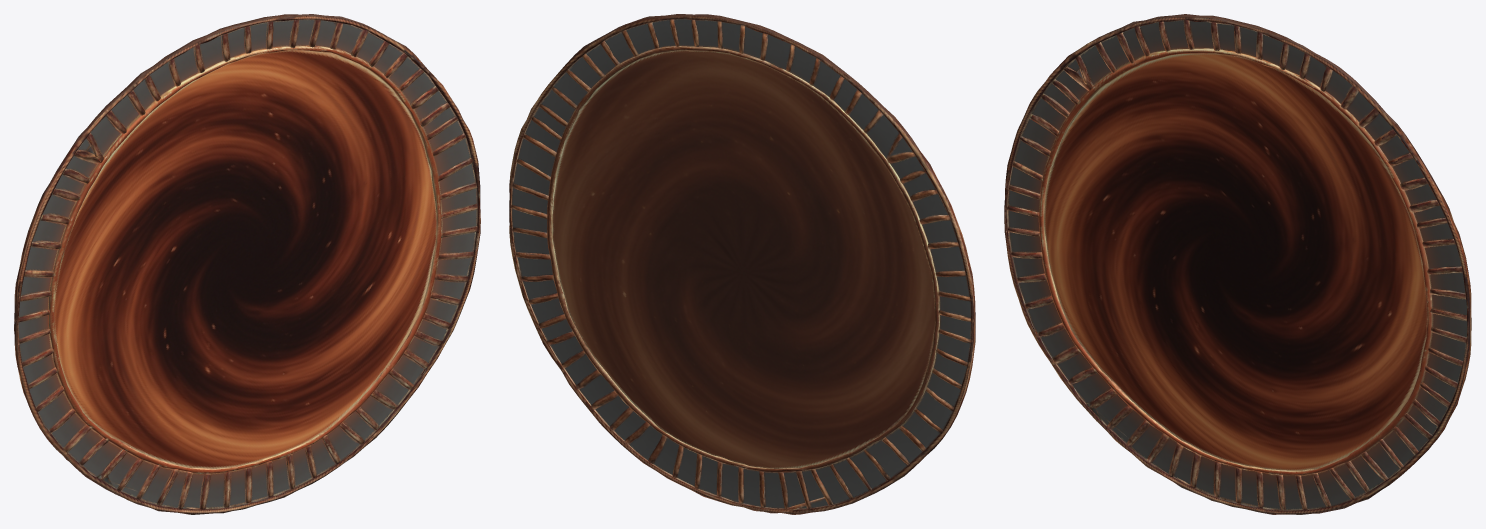
The model's file is town_portal.glb.
3 renders of one model, left to right at view 1: azimuth 30°, elevation 25°; view 2: azimuth 150°, elevation 25°; view 3: azimuth 330°, elevation 25°, orthographic.
Parts seen in each view (by area): view 1: mesh_node; view 2: mesh_node; view 3: mesh_node.
Part boxes in pixels (x1,y1,x2,y2): mesh_node: (14,14,480,514); mesh_node: (509,14,975,514); mesh_node: (1004,14,1471,514).
Size of the model in its own units: 1 by 1 by 0.0162.
Materials: 1 (1 with a texture image).
